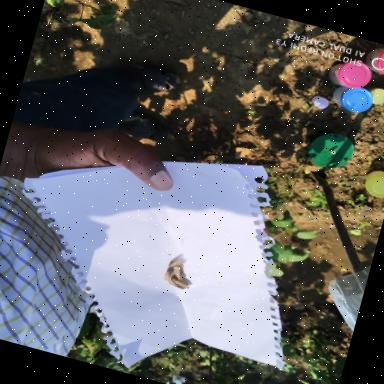abw: (171, 276, 193, 292), (166, 255, 186, 272), (170, 264, 188, 282), (160, 266, 174, 284)
